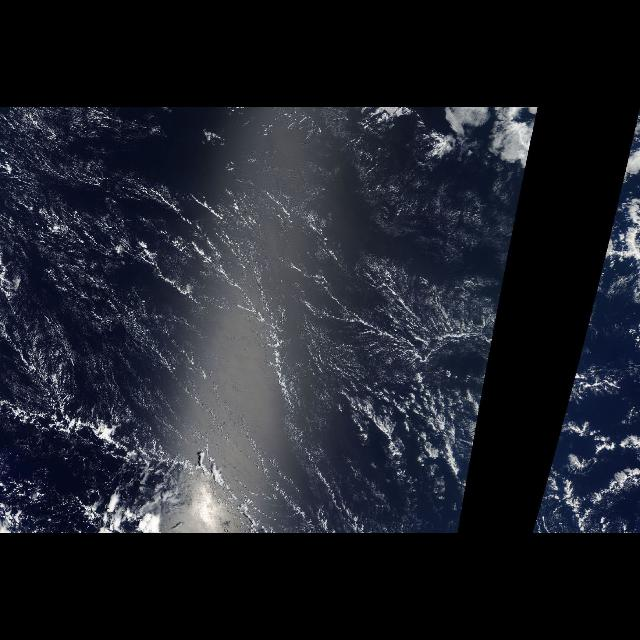Fish: (11, 180, 477, 522)
Sugar: (5, 152, 472, 464)
